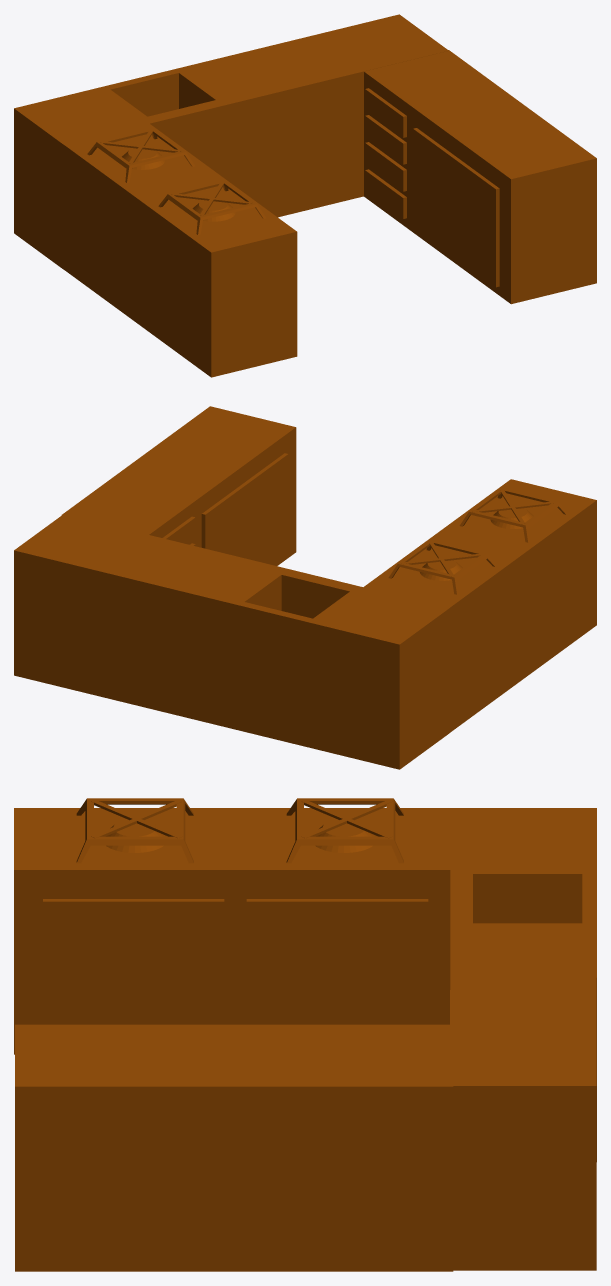
Rendered from balcao.glb.
3 renders of one model, top to bottom at view 1: azimuth 30°, elevation 25°; view 2: azimuth 150°, elevation 25°; view 3: azimuth 270°, elevation 25°, orthographic. The views are drawn at different scales.
Parts seen in each view (by area): view 1: Cube.002; view 2: Cube.002; view 3: Cube.002.
Boxes of the visible parts, x1,y1,x2,y2 form: Cube.002: [14, 14, 596, 377]; Cube.002: [14, 406, 596, 769]; Cube.002: [14, 798, 596, 1271].
Size of the model in its own units: 19.41 by 6.65 by 17.16.
